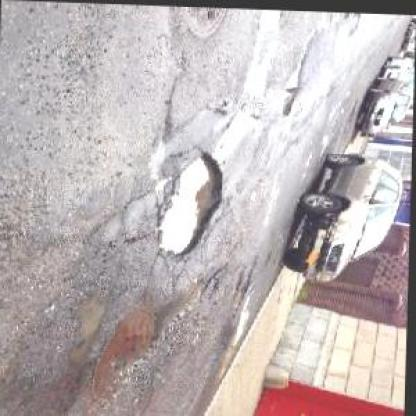pothole: (155, 147, 228, 257), (70, 291, 112, 368), (232, 256, 260, 319), (279, 67, 302, 115)
